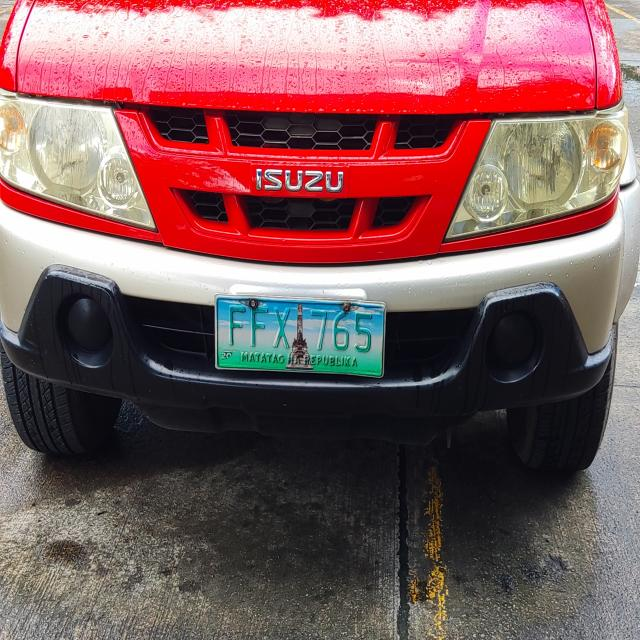plate: (212, 290, 388, 380)
